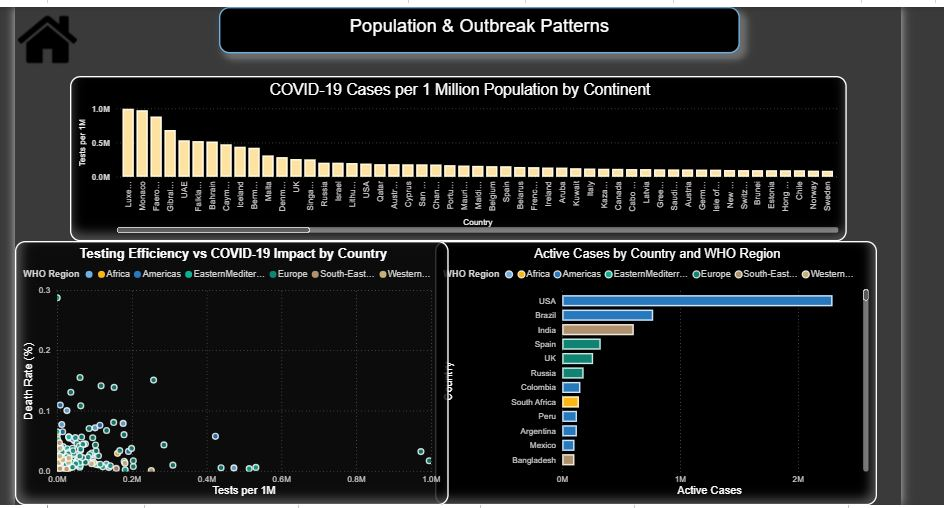

Layout of this report page (visuals, bound fields, positions):
{"tool":"powerbi","page":{"name":"Population & Outbreak Patterns","canvas":[1280,720],"ordinal":4},"visuals":[{"type":"barChart","fields":{"Category":["Worldometer.Country"],"Series":["Worldometer.WHO Region"],"Y":["Worldometer.Active Cases"]},"box":[607.2,338.3,639,381.7],"z":0},{"type":"columnChart","title":"COVID-19 Cases per 1 Million Population by Continent","fields":{"Category":["Worldometer.Country"],"Y":["Worldometer.Tests per 1M"]},"box":[79.5,99.8,1123.4,238.6],"z":1000},{"type":"scatterChart","title":"Testing Efficiency vs COVID-19 Impact by Country","fields":{"X":["Worldometer.Tests per 1M"],"Y":["Worldometer.Death Rate (%)"],"Category":["Worldometer.Population"],"Series":["Worldometer.WHO Region"]},"box":[0,338.3,627.5,381.7],"z":2000},{"type":"textbox","box":[294.9,0,753.3,66.5],"z":3000},{"type":"actionButton","box":[0,0,96.9,93.8],"z":4000}]}

Visuals, with their boxes on the page's 1280x720 design canvas (x1, y1, x2, y2). These are canvas units, not pixel positions in the 944x508 screenshot, which may show the page scaled, cropped or inside an application window:
barChart - Worldometer.Country x Worldometer.WHO Region: BBox(607, 338, 1246, 720)
"COVID-19 Cases per 1 Million Population by Continent" columnChart: BBox(80, 100, 1203, 338)
"Testing Efficiency vs COVID-19 Impact by Country" scatterChart: BBox(0, 338, 628, 720)
textbox: BBox(295, 0, 1048, 66)
actionButton: BBox(0, 0, 97, 94)
